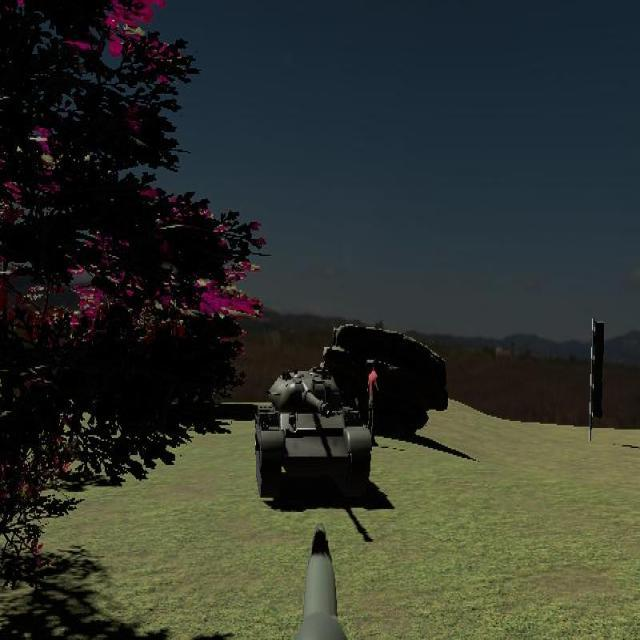Tank: (254, 366, 372, 501)
car: (321, 322, 449, 434)
